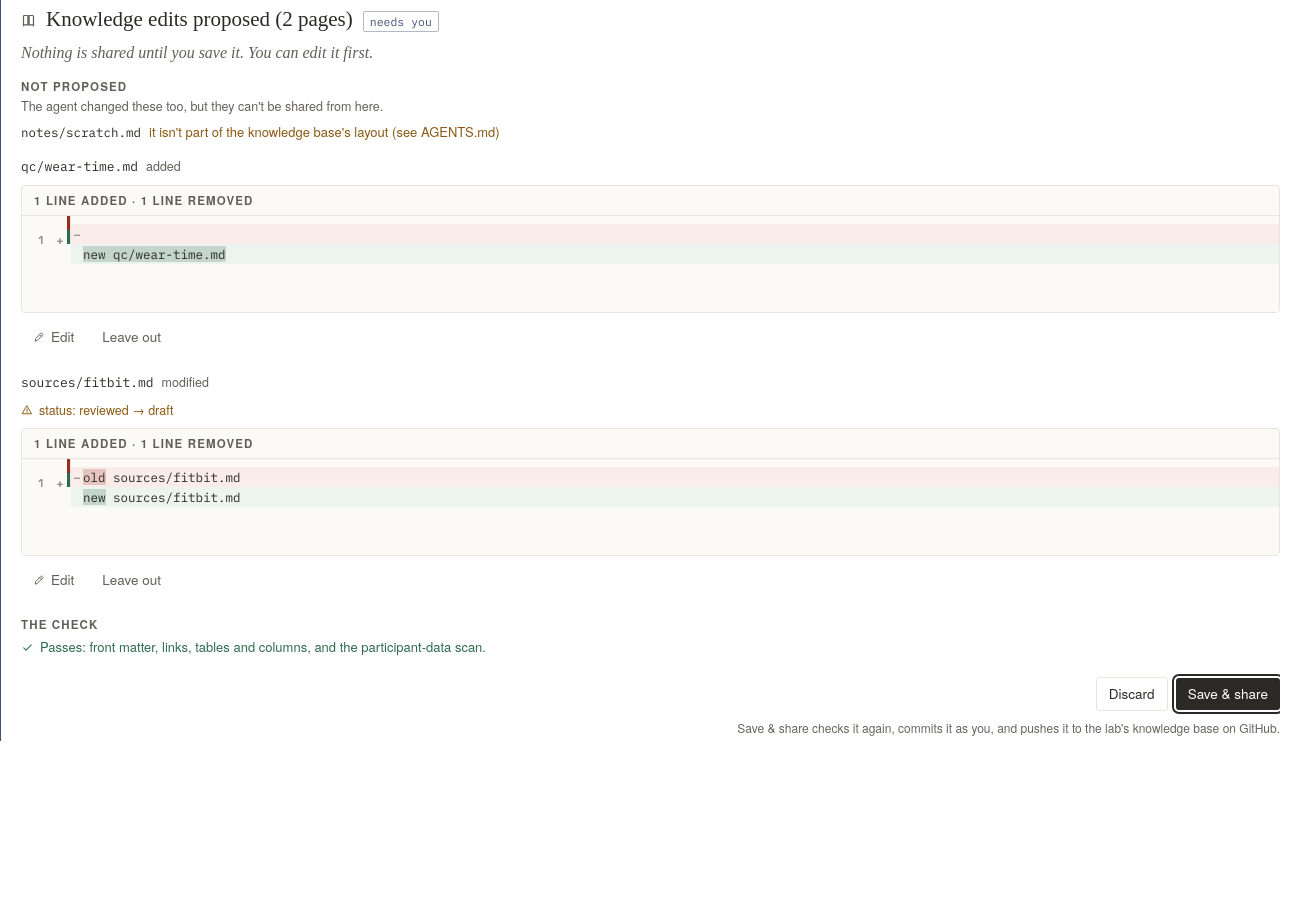
Test: what's saved is what's on screen › keeps focus on the card when it folds after saving
Click the button "Save & share". click: (1228, 694)
box: [1176,678,1280,710]
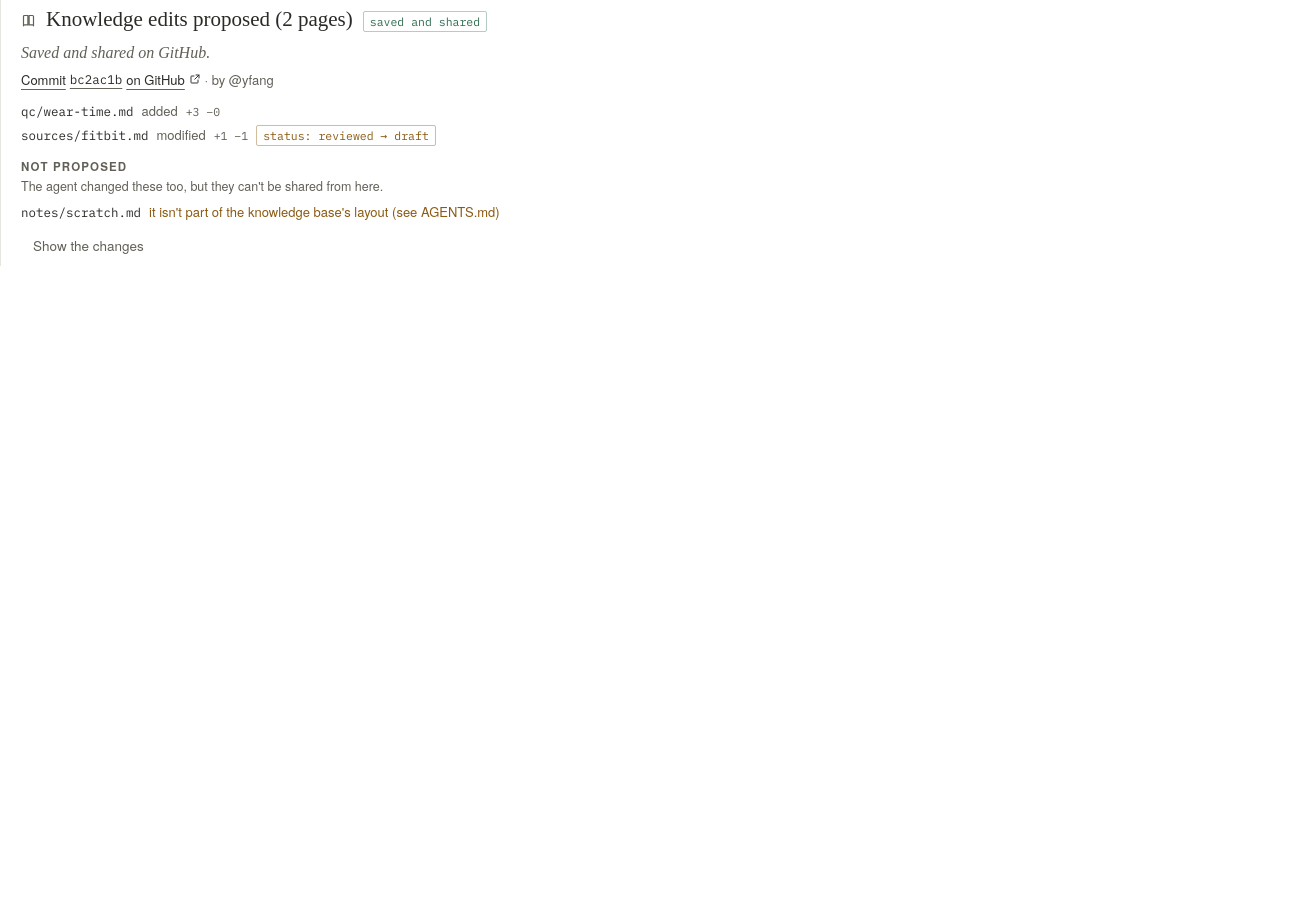
Result: the text "saved and shared" is shown at [363,11,487,32]
